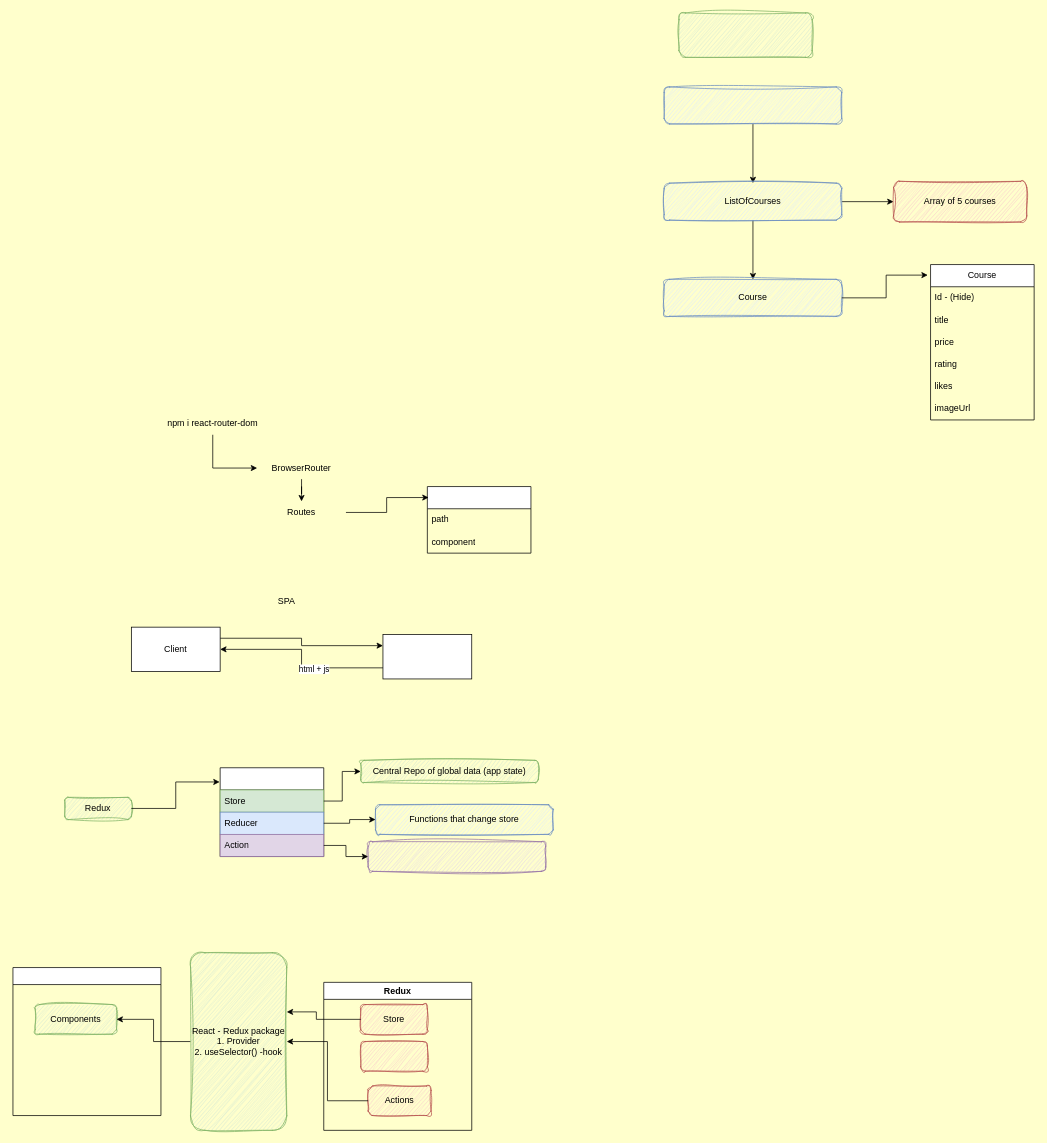
The diagram is 1047 pixels wide and 1143 high, and some of its shapes have lost their labels. The box of each missing label's shape, as (x1, y1, x2, y2) in pixels:
App: (663, 86, 842, 124)
DBSdemy (App Name): (678, 12, 812, 57)
Notification to redux that store has to change: (367, 841, 546, 871)
React: (12, 967, 161, 1116)
Reducers: (360, 1041, 427, 1071)
Route: (427, 486, 531, 553)
Server: (382, 634, 472, 679)
Terminologies: (219, 767, 324, 857)
